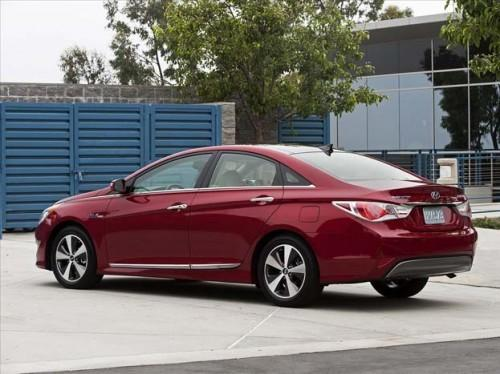car: (14, 105, 477, 284)
